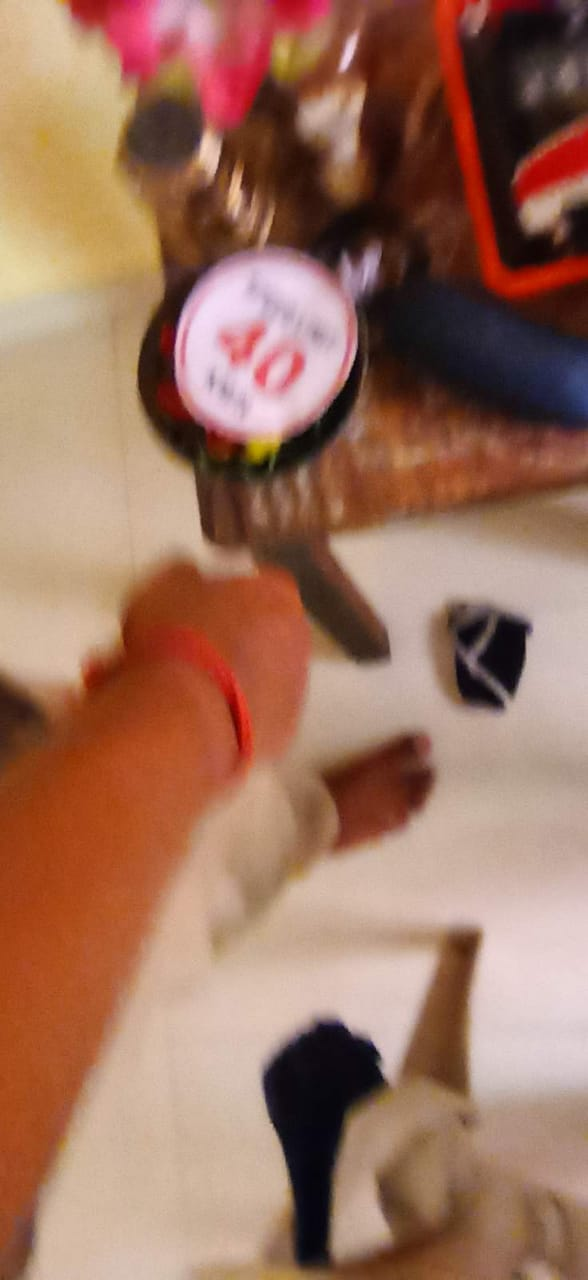SPEED LIMIT (40 KM/H): (173, 237, 343, 440)
